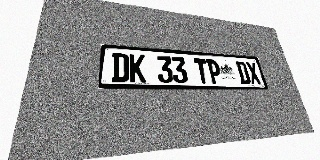3: (157, 56, 174, 83), (171, 57, 188, 83)
D: (111, 53, 129, 82), (235, 61, 251, 84)
K: (129, 54, 146, 83)
P: (206, 59, 223, 84)
T: (193, 58, 210, 84)
X: (245, 62, 262, 84)
